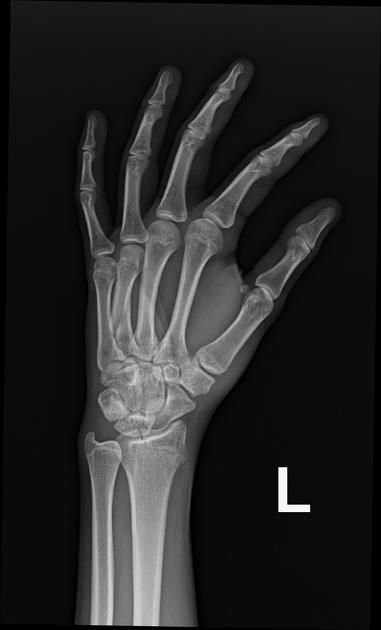fractured: (138, 428, 192, 464)
